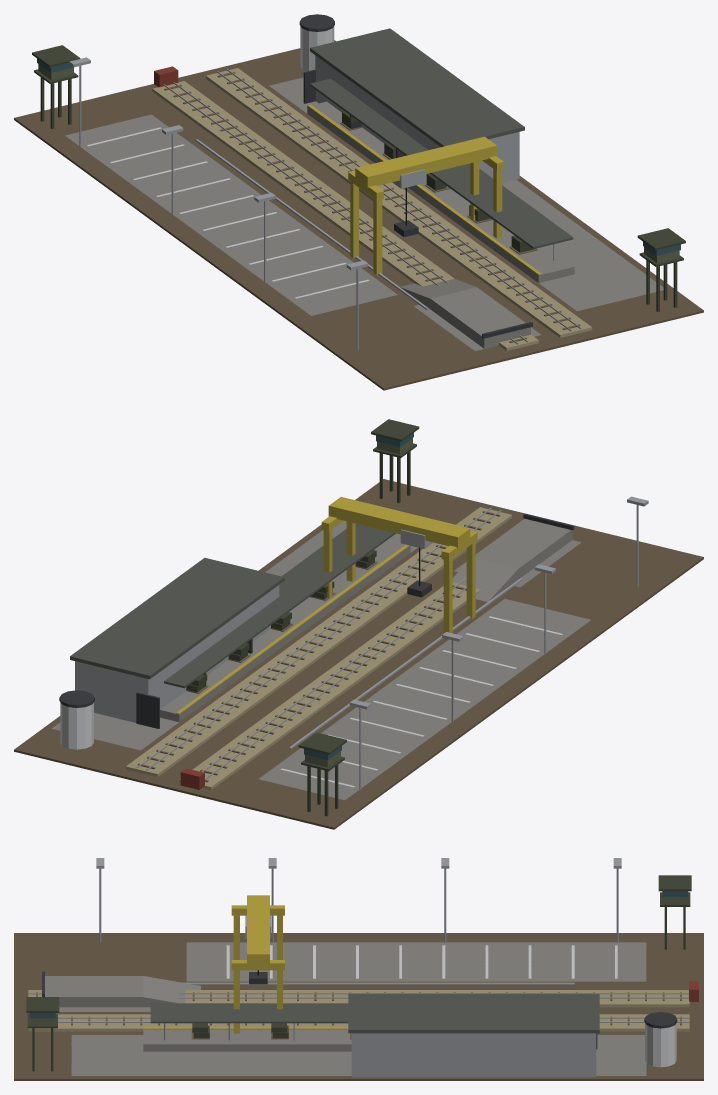
Rendered from Fort_CargoStation.obj.
3 views of the same model, one above another, from view 1: azimuth 30°, elevation 25°; view 2: azimuth 150°, elevation 25°; view 3: azimuth 270°, elevation 25° (orthographic). The views are drawn at different scales.
Bounding box in the file's own units: 48 × 13.7 × 96.
